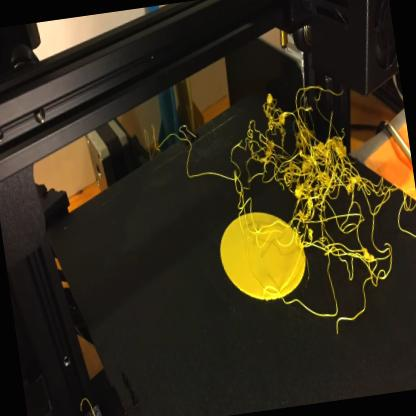fail: (219, 62, 416, 353)
